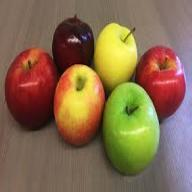apple: (100, 82, 157, 165), (4, 51, 59, 120), (56, 63, 104, 142), (137, 42, 183, 114), (96, 23, 140, 84), (50, 17, 95, 65)
